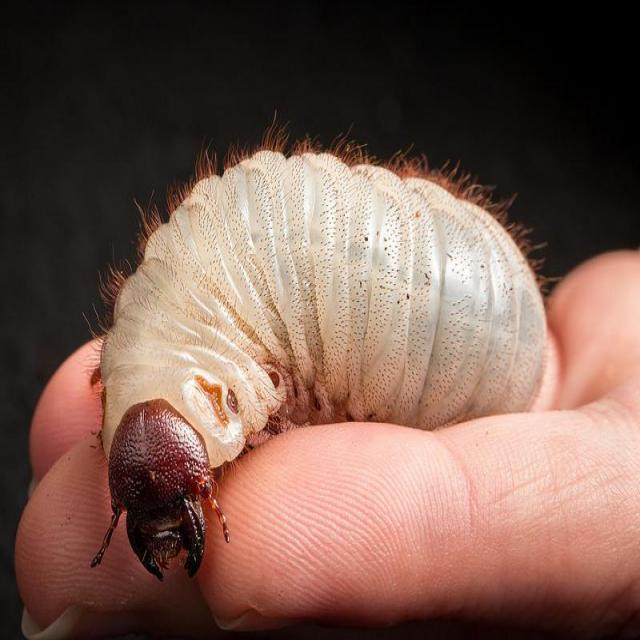Grub-Adult-: (91, 126, 571, 584)
